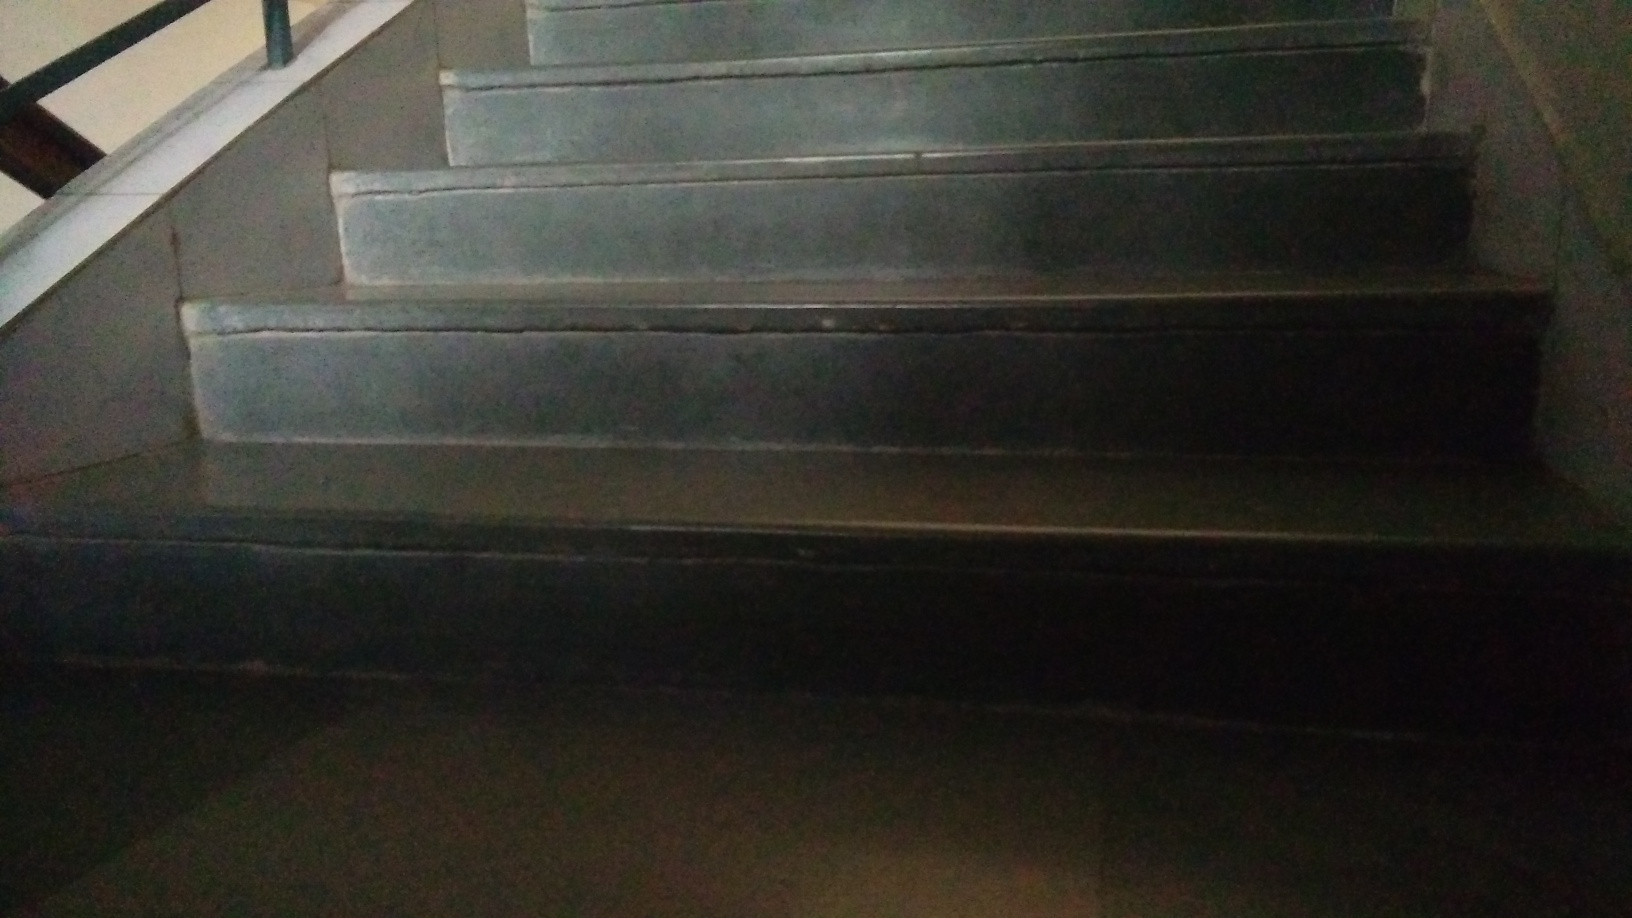stairs_up: (13, 9, 1603, 742)
